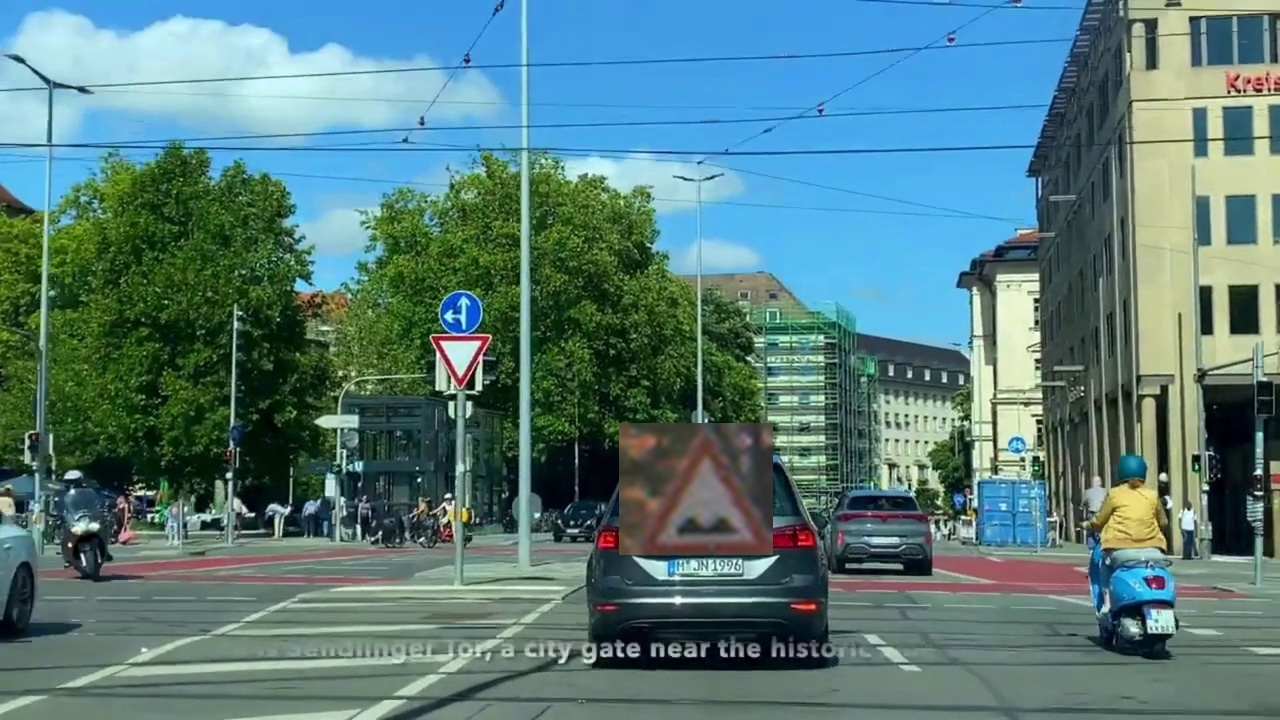Bumpy road: (619, 423, 773, 555)
